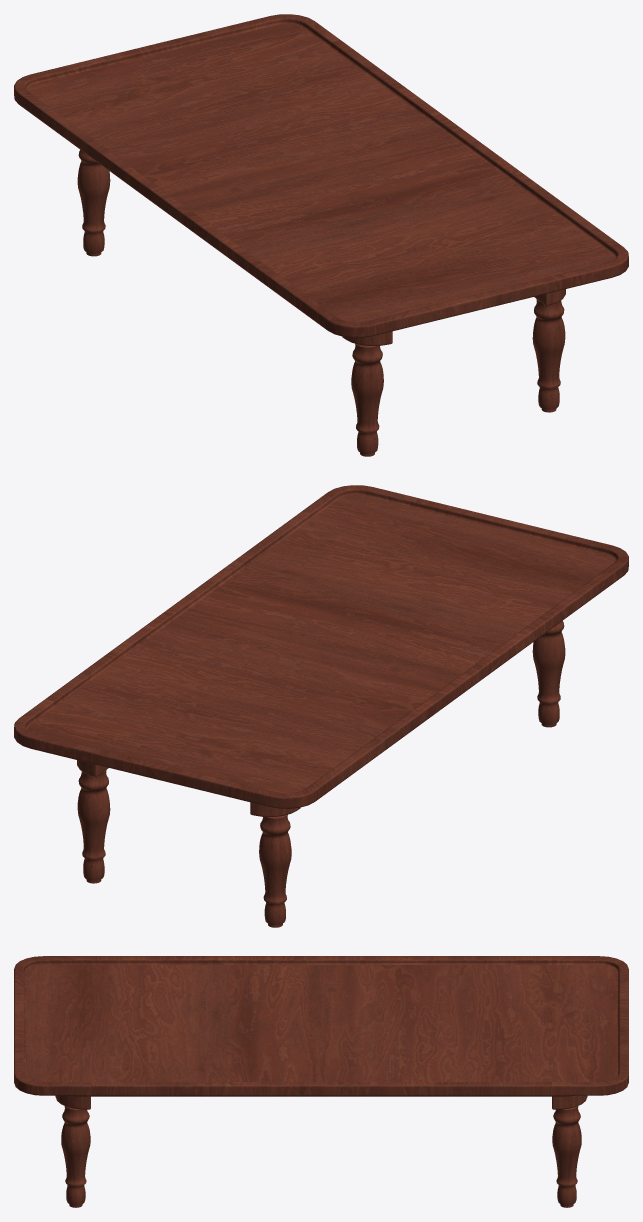
Rendered from CSCD490ModelTable02.fbx.
3 views of the same model, one above another, from view 1: azimuth 30°, elevation 25°; view 2: azimuth 150°, elevation 25°; view 3: azimuth 270°, elevation 25° (orthographic). The views are drawn at different scales.
Visible parts, largest first — view 1: Cube_Bake; view 2: Cube_Bake; view 3: Cube_Bake.
Part boxes in pixels (x1=…): Cube_Bake: x1=14, y1=14, x2=628, y2=456; Cube_Bake: x1=14, y1=485, x2=628, y2=927; Cube_Bake: x1=14, y1=956, x2=628, y2=1207.
Bounding box in the file's own units: 200 × 104 × 400.
